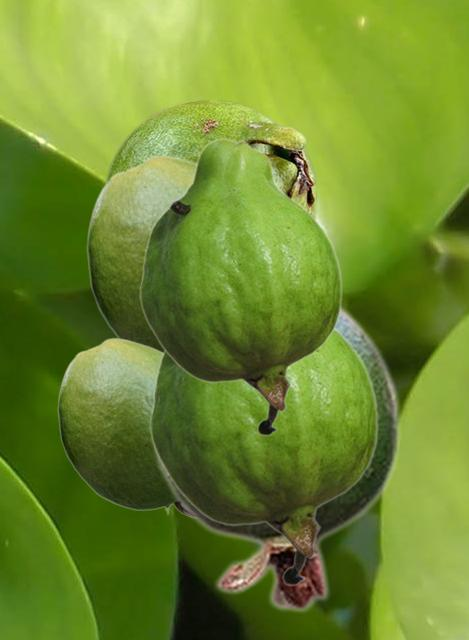guava: (151, 303, 402, 613), (138, 137, 341, 435), (148, 328, 377, 585), (103, 99, 316, 217), (57, 337, 184, 515), (86, 154, 195, 350)
